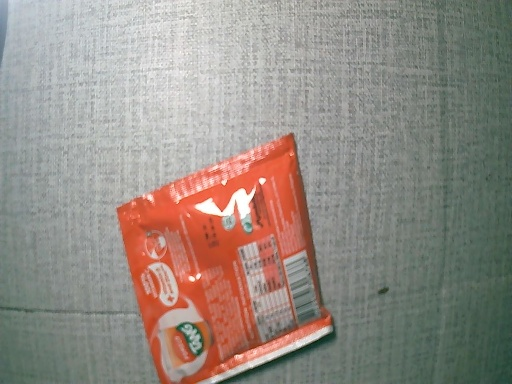plastic: (116, 132, 336, 384)
